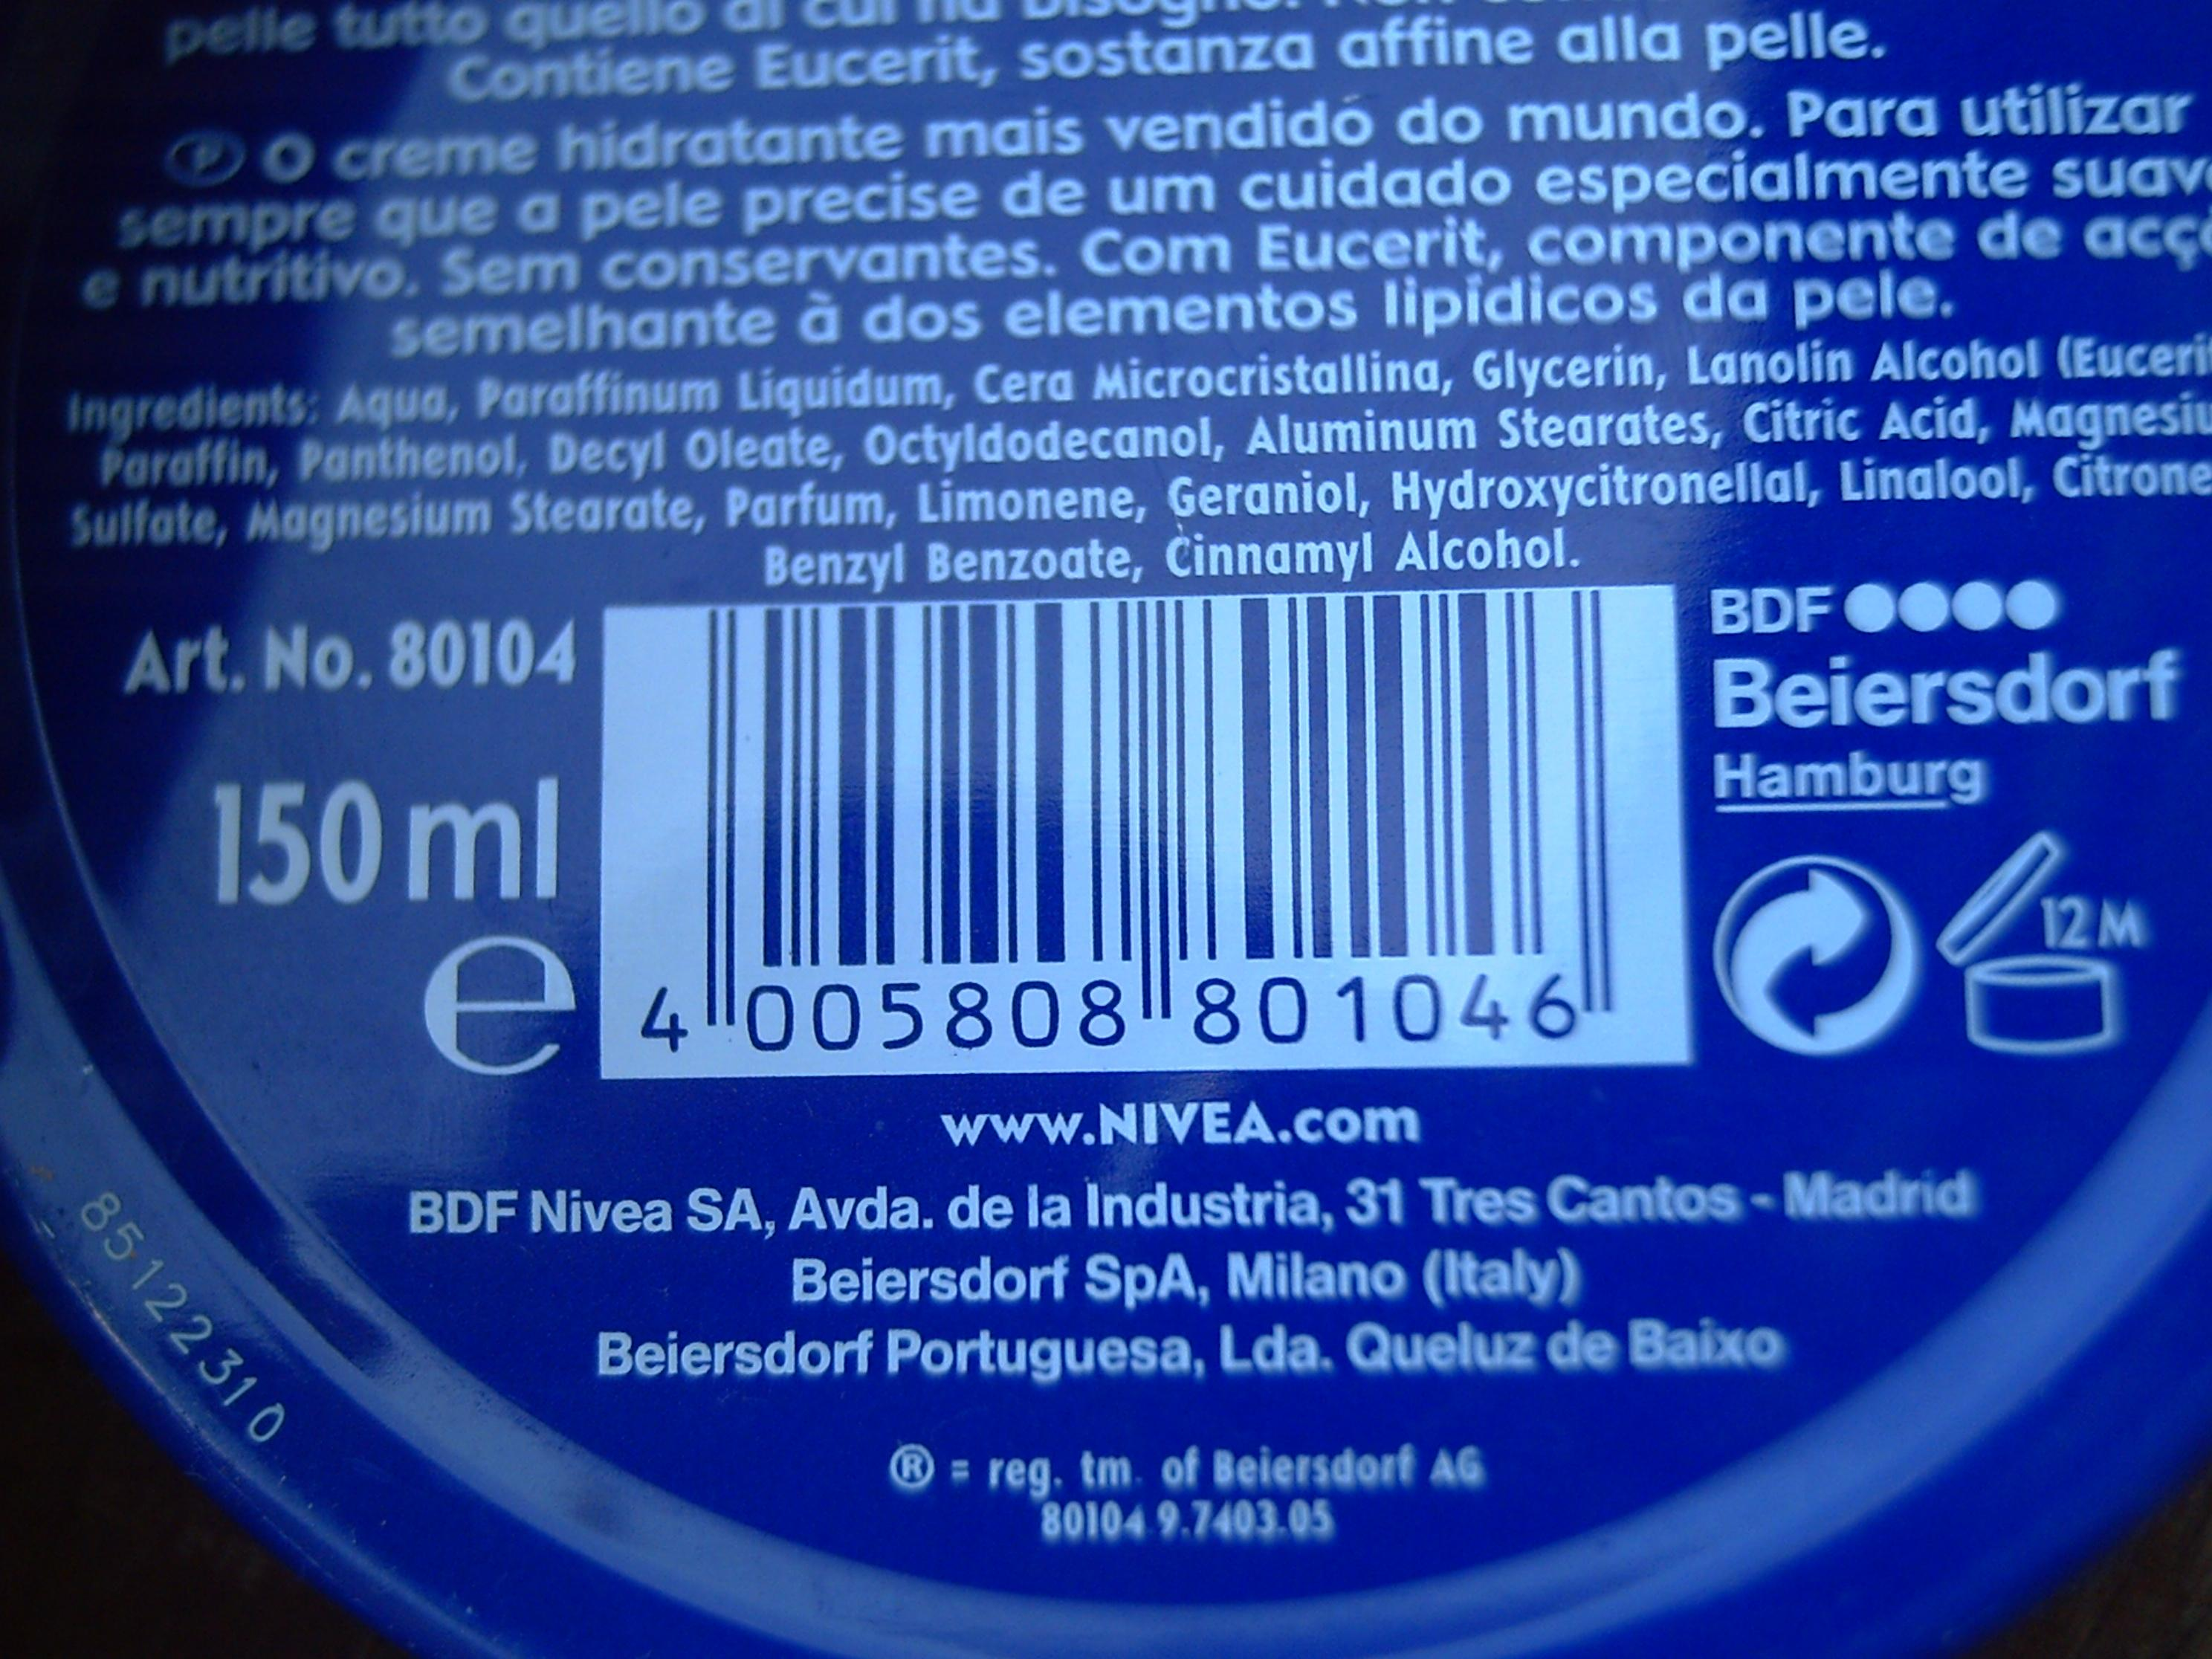barcode: (596, 587, 1688, 1075)
